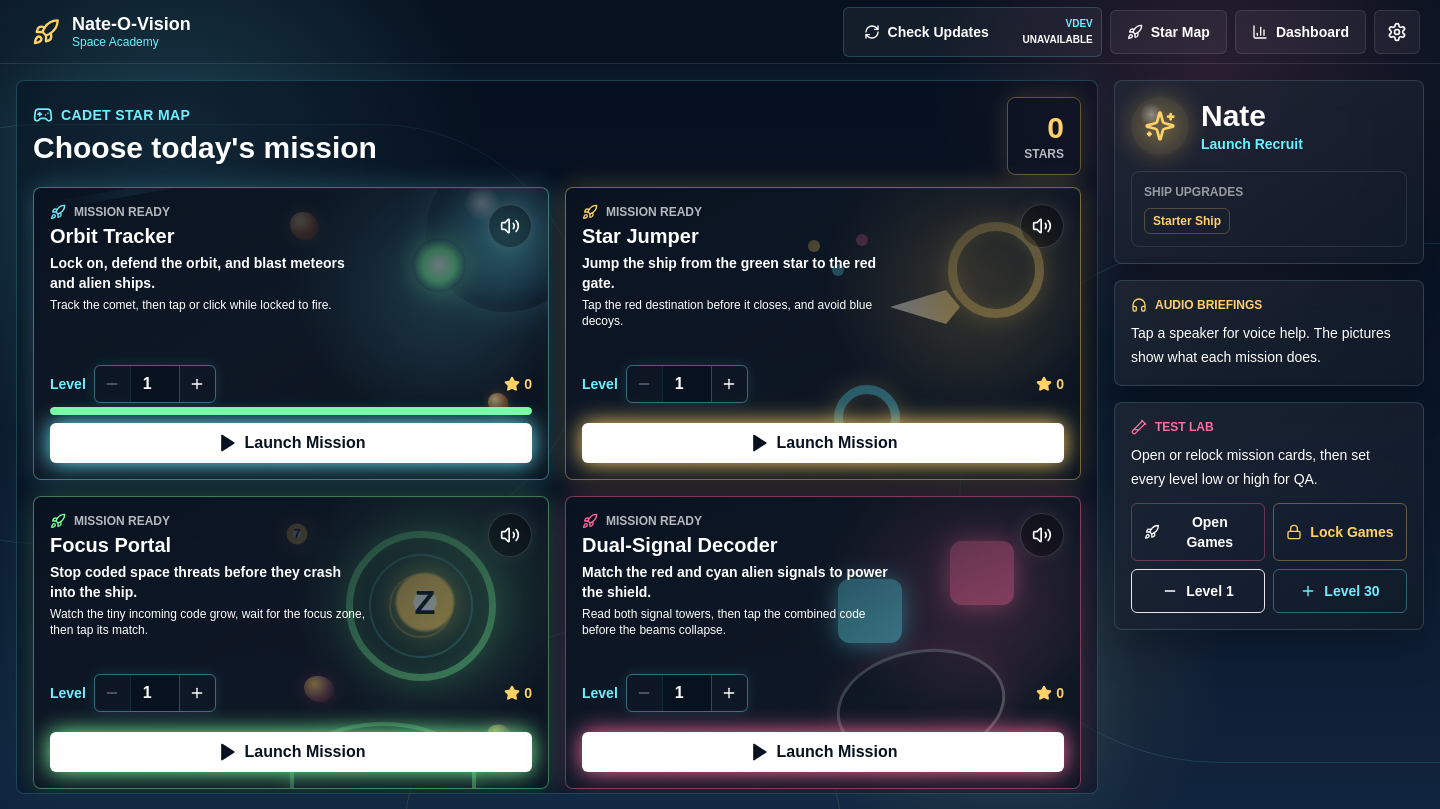
Test case: App › renders the star map and dashboard
Expected: the heading "Choose today's mission" is shown, x1=33 y1=129 x2=377 y2=167
Expected: the button "Check Updates" is shown, x1=852 y1=12 x2=1001 y2=52
Step 1. Click the button "Dashboard" → {"x": 1300, "y": 32}, box x1=1235 y1=10 x2=1366 y2=54
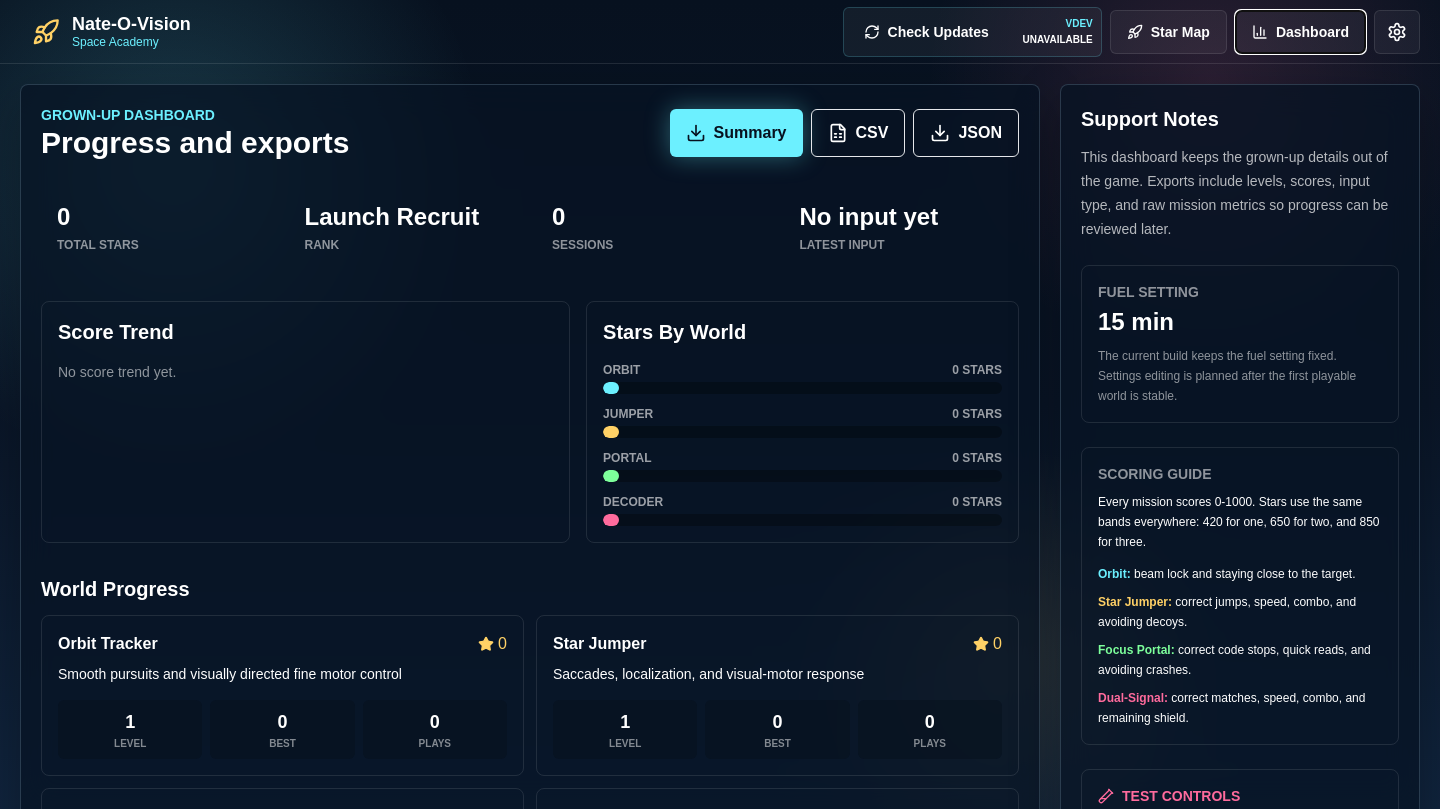
Expected: the heading "Progress and exports" is shown, x1=41 y1=125 x2=349 y2=161
